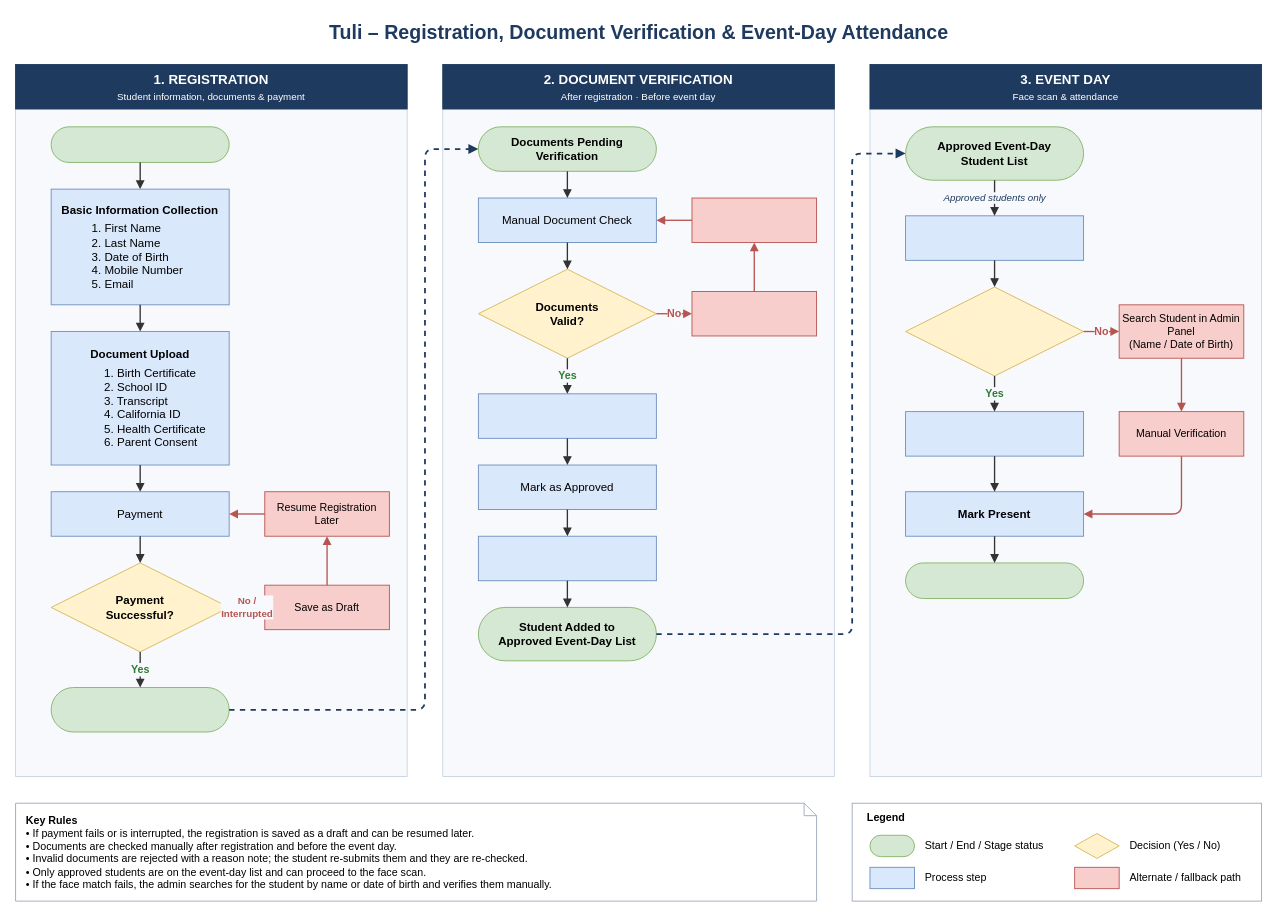
Some shapes in this 1277 by 917 pixel diagram are drawn without their labels. The shapes that lost their labels are listed below. From the top down, each one's centre as x and y in pixels, then its label:
At point (139, 144): "Start".
At point (754, 220): "Student Re-submits Documents for Re-check".
At point (994, 237): "Face Scan".
At point (754, 313): "Reject Documents with Reason Note".
At point (994, 331): "Face Match?".
At point (566, 415): "Student Verified".
At point (994, 433): "Student Identified".
At point (566, 558): "Submit Approval".
At point (994, 580): "End".
At point (139, 709): "Registration Completed".
